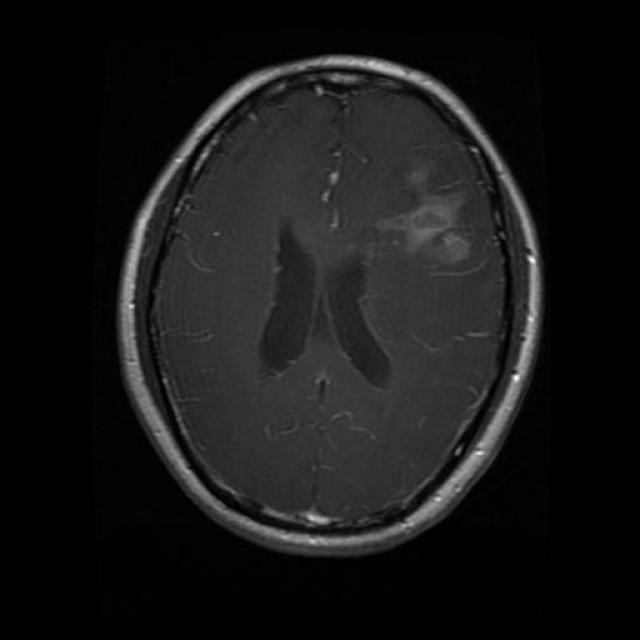Brain-Tumor: (364, 144, 495, 279)
